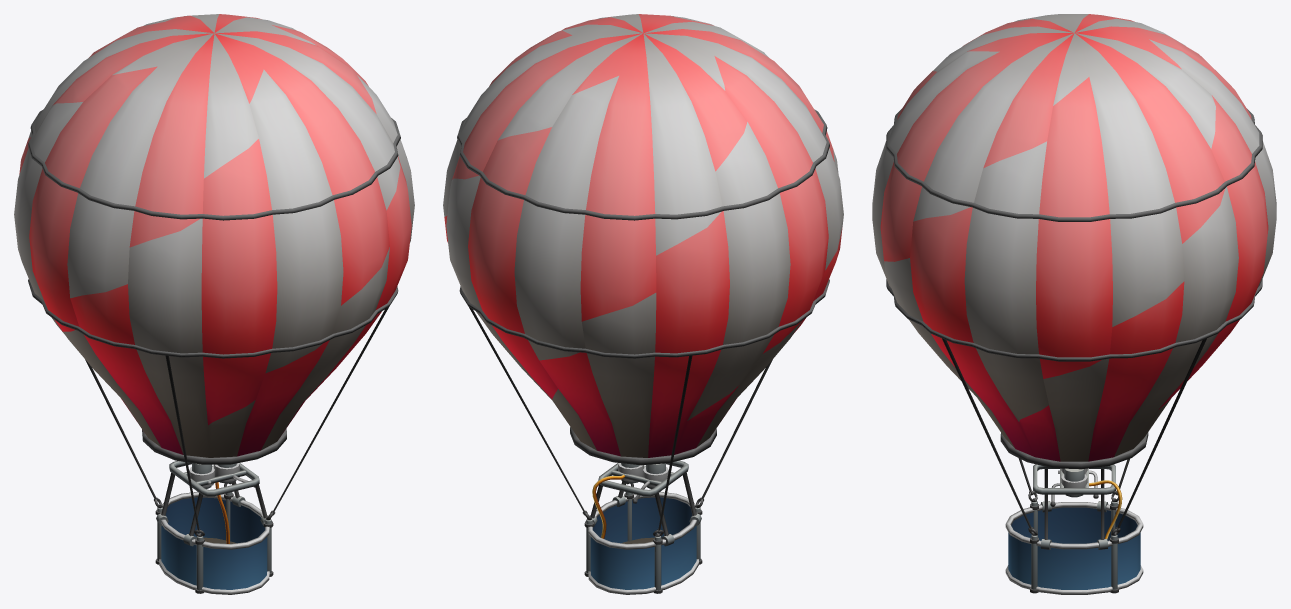
Rendered from Balloon_1C.fbx.
3 views of the same model, side by side, from view 1: azimuth 30°, elevation 25°; view 2: azimuth 150°, elevation 25°; view 3: azimuth 270°, elevation 25° (orthographic).
Visible parts, largest first — view 1: Balloon_1C; view 2: Balloon_1C; view 3: Balloon_1C.
Part boxes in pixels (x1,y1,x2,y2): Balloon_1C: (14, 14, 414, 594); Balloon_1C: (443, 14, 843, 594); Balloon_1C: (872, 14, 1276, 594).
Bounding box in the file's own units: 9.7 × 14.33 × 9.7.
